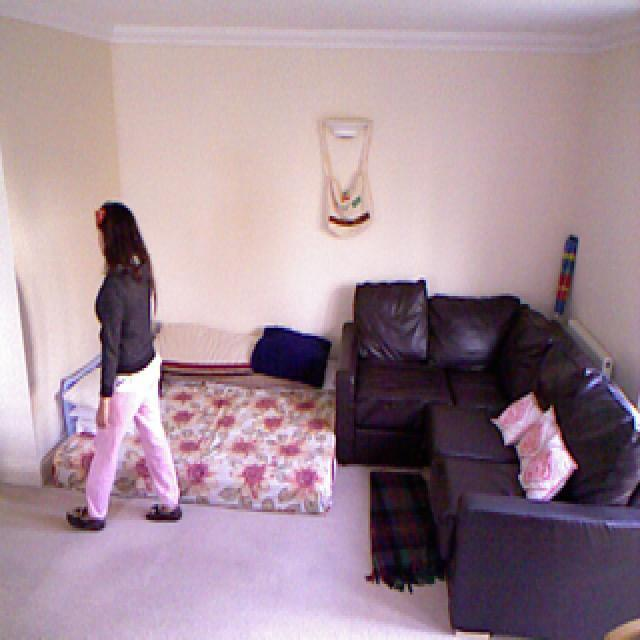walking: (66, 191, 190, 533)
